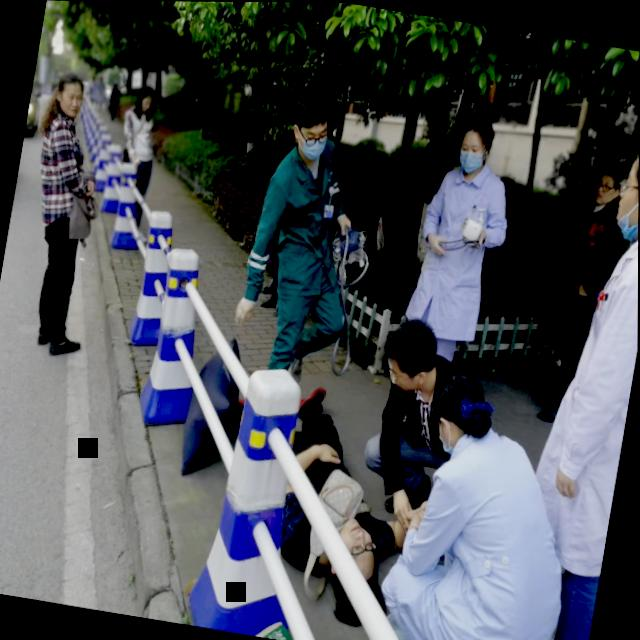Fall-Detected: (234, 366, 424, 617)
